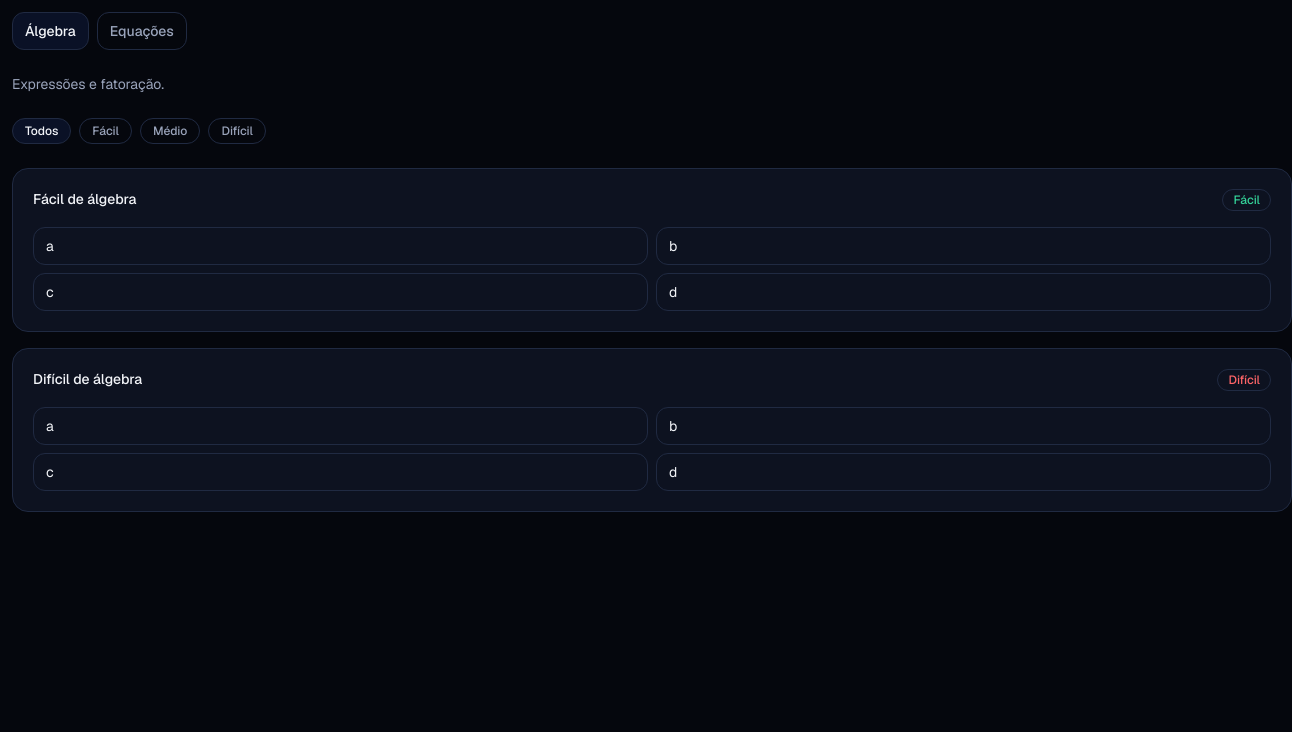
Scenario: ExerciseBrowser › filtra por dificuldade dentro do tópico ativo
The image size is (1292, 732).
Click the button "Difícil". click: (237, 131)
box: [208, 118, 266, 144]
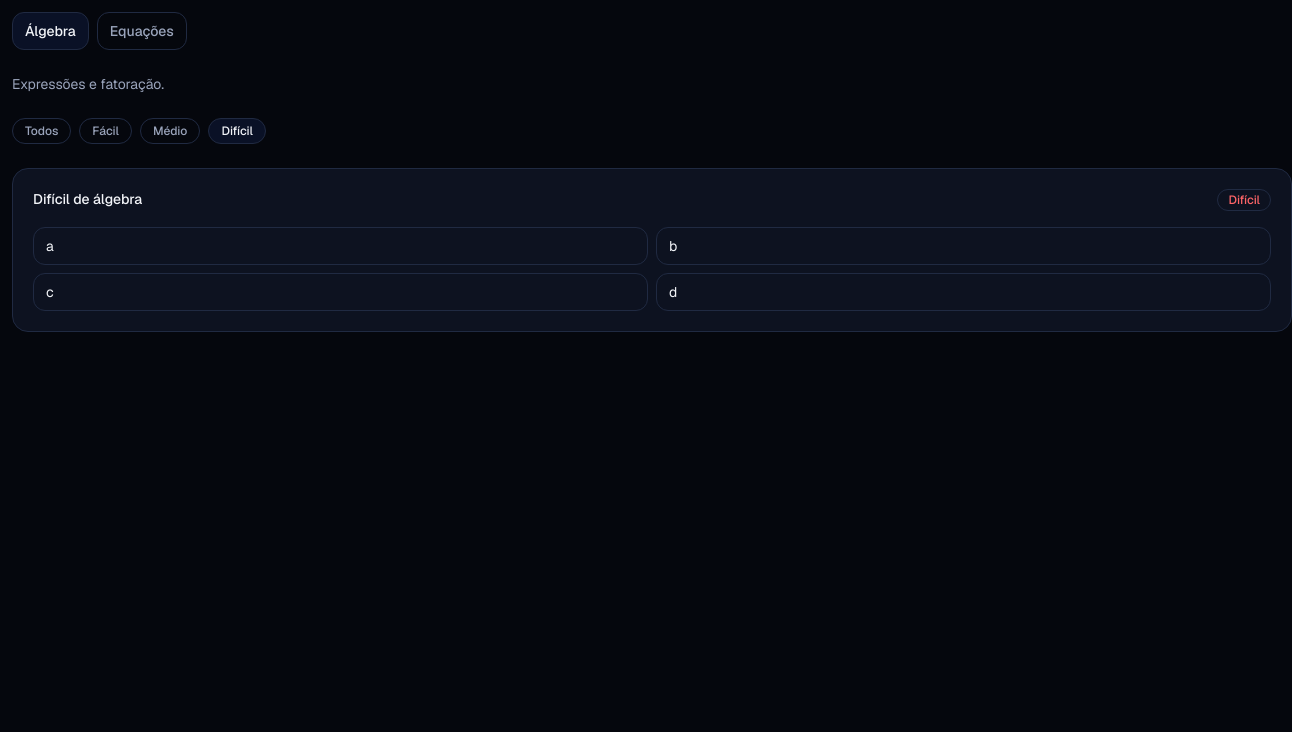
Expected: the text "Difícil de álgebra" is shown, [33, 189, 142, 209]
Expected: the text "Fácil de álgebra" is gone
